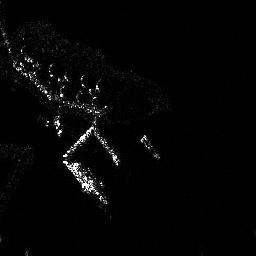ship: (68, 160, 109, 205), (139, 133, 162, 161)
